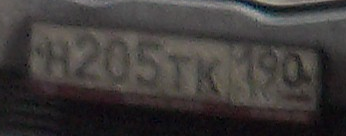character: (132, 35, 165, 88), (103, 34, 133, 86), (74, 34, 102, 82), (43, 36, 71, 80), (195, 54, 222, 97), (166, 53, 192, 95), (282, 49, 307, 92), (235, 43, 257, 89), (259, 45, 281, 91)
